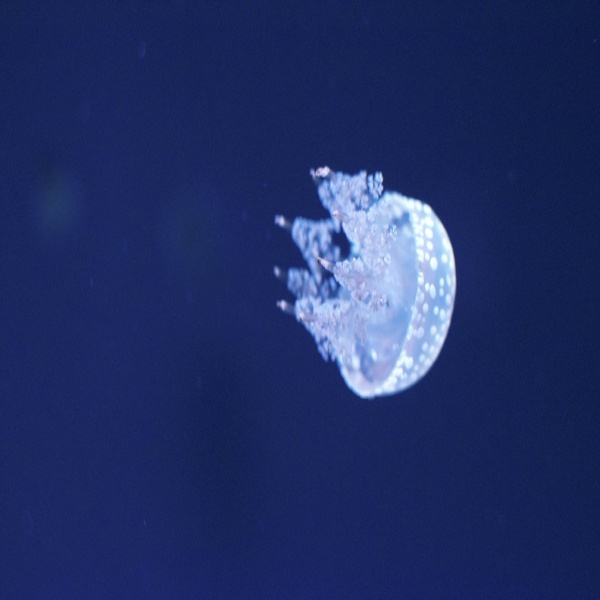Jellyfish: (262, 156, 445, 412)
